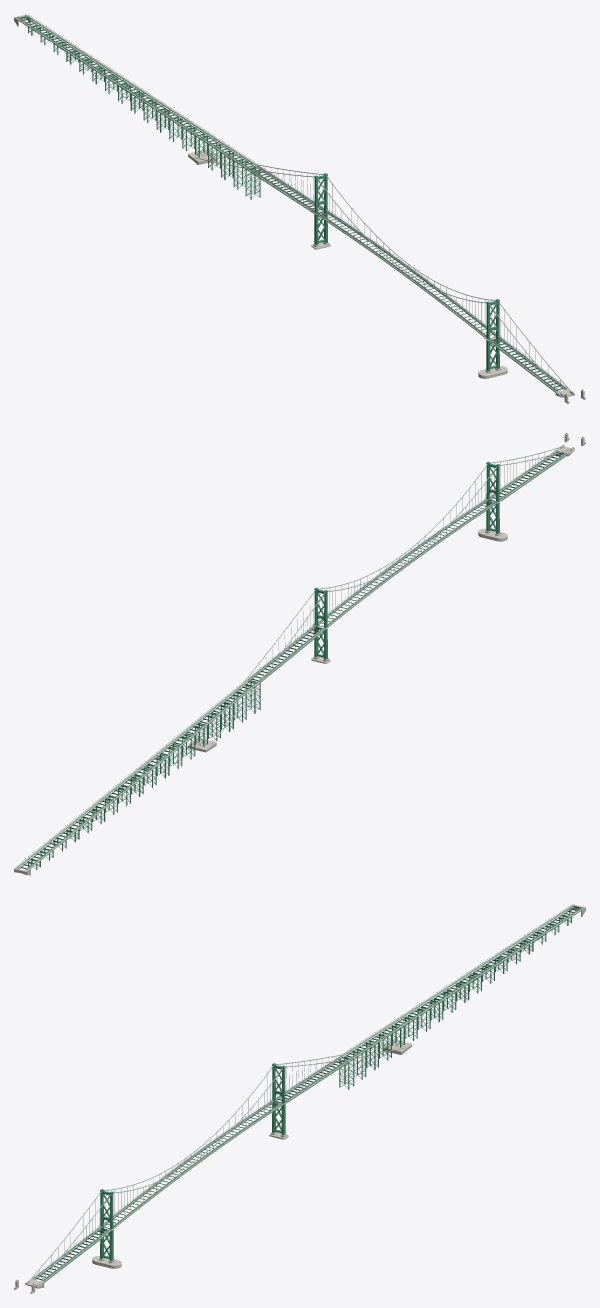
Rendered from van-lions-gate-bridge.detail.glb.
The picture shows the model from 3 angles, top to bottom: view 1: azimuth 30°, elevation 25°; view 2: azimuth 150°, elevation 25°; view 3: azimuth 330°, elevation 25°; orthographic projection.
Visible parts, largest first — view 1: Lions Gate Bridge; view 2: Lions Gate Bridge; view 3: Lions Gate Bridge.
Boxes of the visible parts, left/top/right/bottom form: Lions Gate Bridge: left=14, top=14, right=585, bottom=403; Lions Gate Bridge: left=14, top=432, right=585, bottom=875; Lions Gate Bridge: left=14, top=904, right=585, bottom=1293.
Bounding box in the file's own units: 44 × 111 × 1530.
